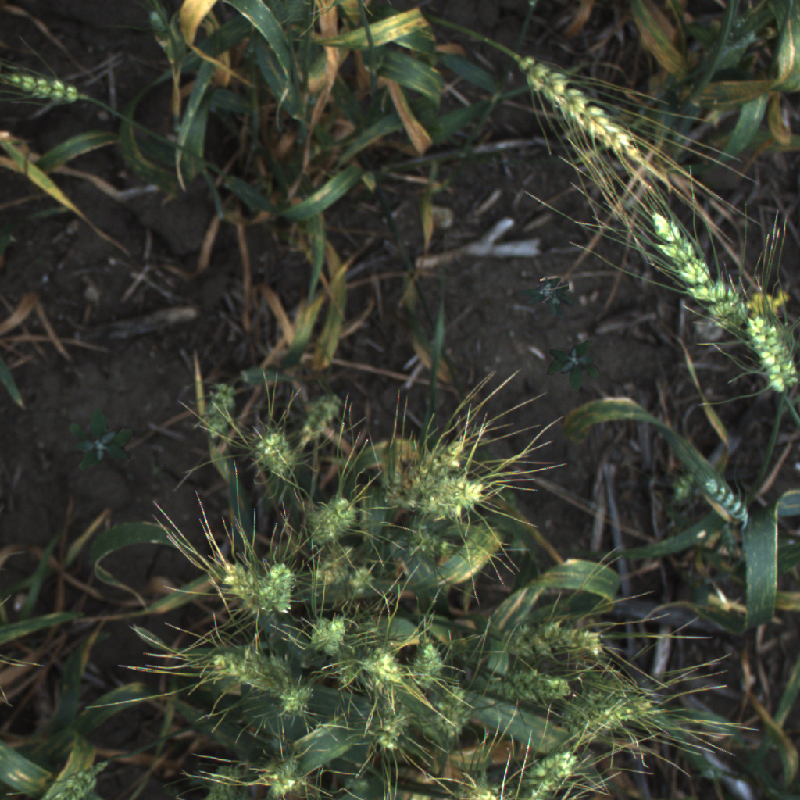spikelet: (515, 52, 644, 167), (648, 207, 748, 333), (563, 685, 659, 754), (478, 664, 583, 710), (385, 436, 464, 495), (742, 312, 798, 394), (507, 620, 603, 666), (403, 473, 484, 523), (697, 473, 760, 537), (1, 64, 82, 110), (209, 641, 293, 685), (512, 748, 579, 800), (220, 557, 271, 624), (295, 385, 346, 451), (398, 524, 478, 566), (302, 492, 357, 545), (199, 376, 243, 442), (42, 759, 107, 800), (252, 750, 307, 798), (357, 643, 405, 695), (257, 559, 297, 617), (250, 428, 294, 478), (433, 680, 473, 735), (367, 710, 411, 757), (306, 614, 349, 656), (307, 550, 350, 592), (271, 680, 314, 720), (332, 639, 365, 690), (408, 638, 443, 686), (342, 558, 381, 601), (450, 773, 511, 800), (203, 760, 241, 800), (350, 617, 393, 652), (671, 469, 696, 501)
weed: (62, 403, 140, 479), (516, 269, 580, 332), (542, 333, 605, 395)
